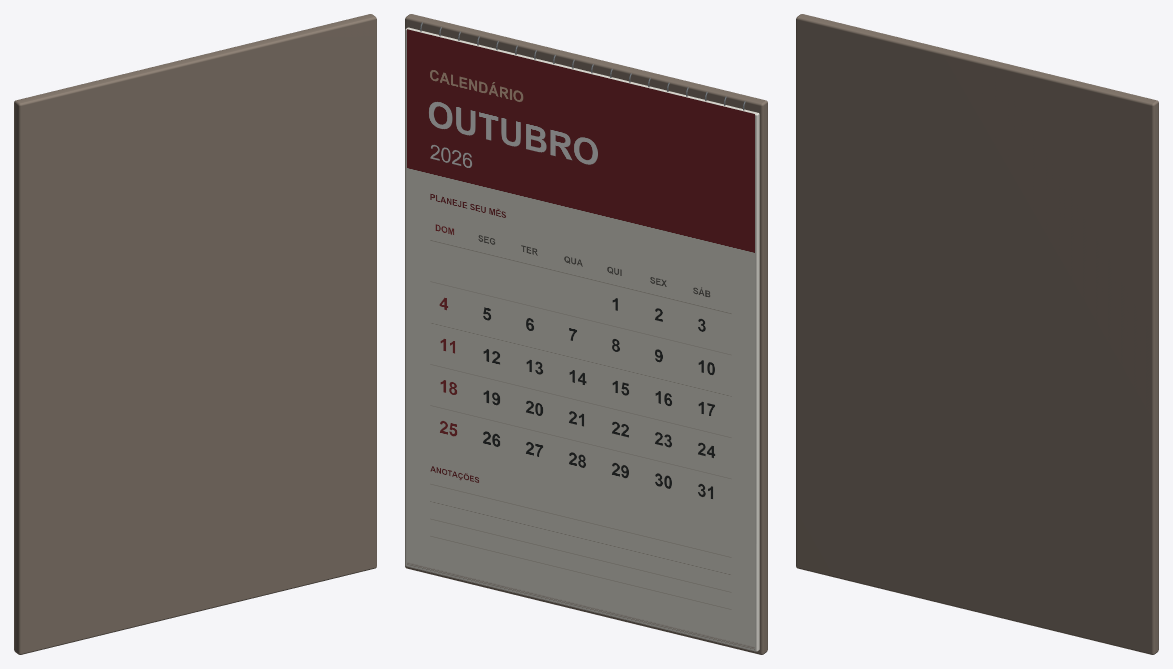
File: calendario_realista.glb
3 renders of one model, left to right at view 1: azimuth 30°, elevation 25°; view 2: azimuth 150°, elevation 25°; view 3: azimuth 330°, elevation 25°, orthographic.
Parts seen in each view (by area): view 1: Suporte traseiro; view 2: Mes e numeros em textura, Suporte traseiro, Bloco de folhas; view 3: Suporte traseiro.
Boxes of the visible parts, x1,y1,x2,y2 form: Suporte traseiro: (14,14,376,654); Mes e numeros em textura: (407,29,754,646); Suporte traseiro: (405,14,767,654); Bloco de folhas: (405,27,759,651); Suporte traseiro: (796,14,1158,654).
Bounding box in the file's own units: 0.34 × 0.5 × 0.0142.
4 materials, 1 textured.
